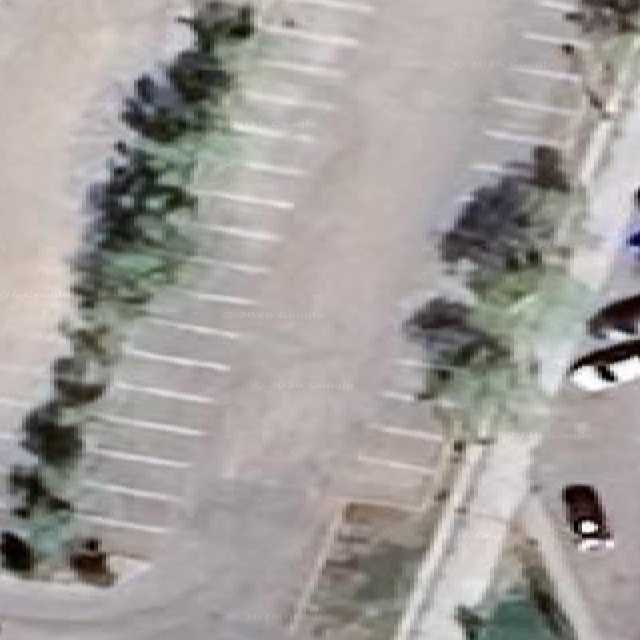car: (403, 296, 507, 399), (568, 340, 639, 391), (562, 484, 612, 550), (587, 293, 639, 340), (564, 0, 639, 32), (0, 532, 33, 572), (626, 187, 639, 260), (627, 227, 639, 260)
